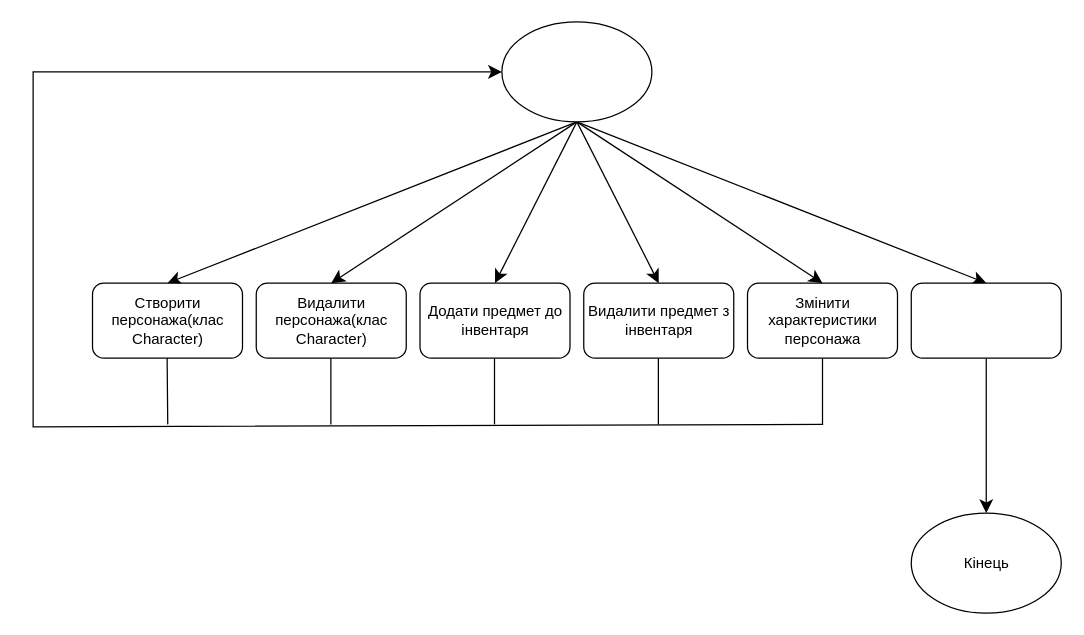
Some shapes in this 1084 by 635 pixel diagram are drawn without their labels. Each missing label, with the centre of its shape:
Вихід з програми (Збереження данних): (985,320)
Початок: (576,71)
